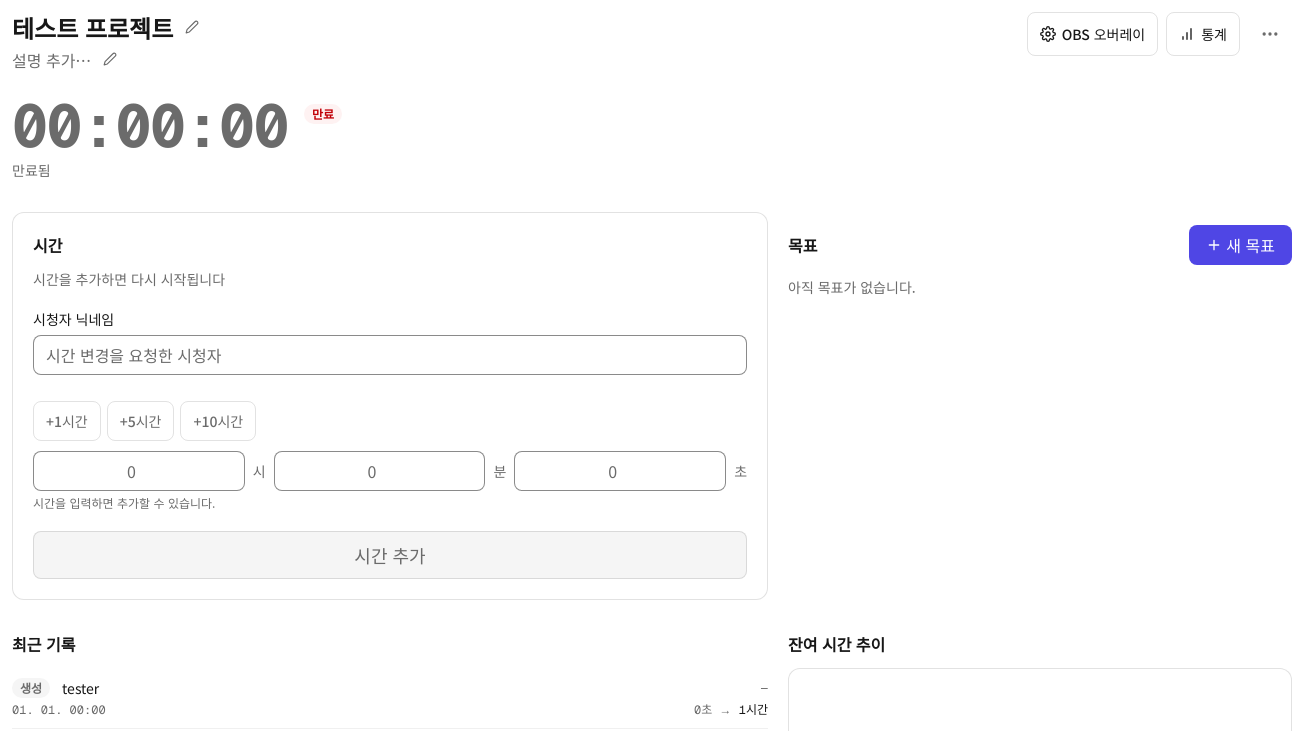
콘솔 조회 실패 표시 (W31) › 생성 기록뿐인 상태에서 시간 변경에 성공하면 이어지는 기록 갱신이 실패해도 '전체 기록'을 보인다
Expected: the heading "최근 기록" is shown, [12,632,75,656]
Expected: the text "tester" is shown, [62,678,99,698]
Type "시청자" into the field labelled "시청자 닉네임". click: (390, 355)
box: [33,335,747,375]
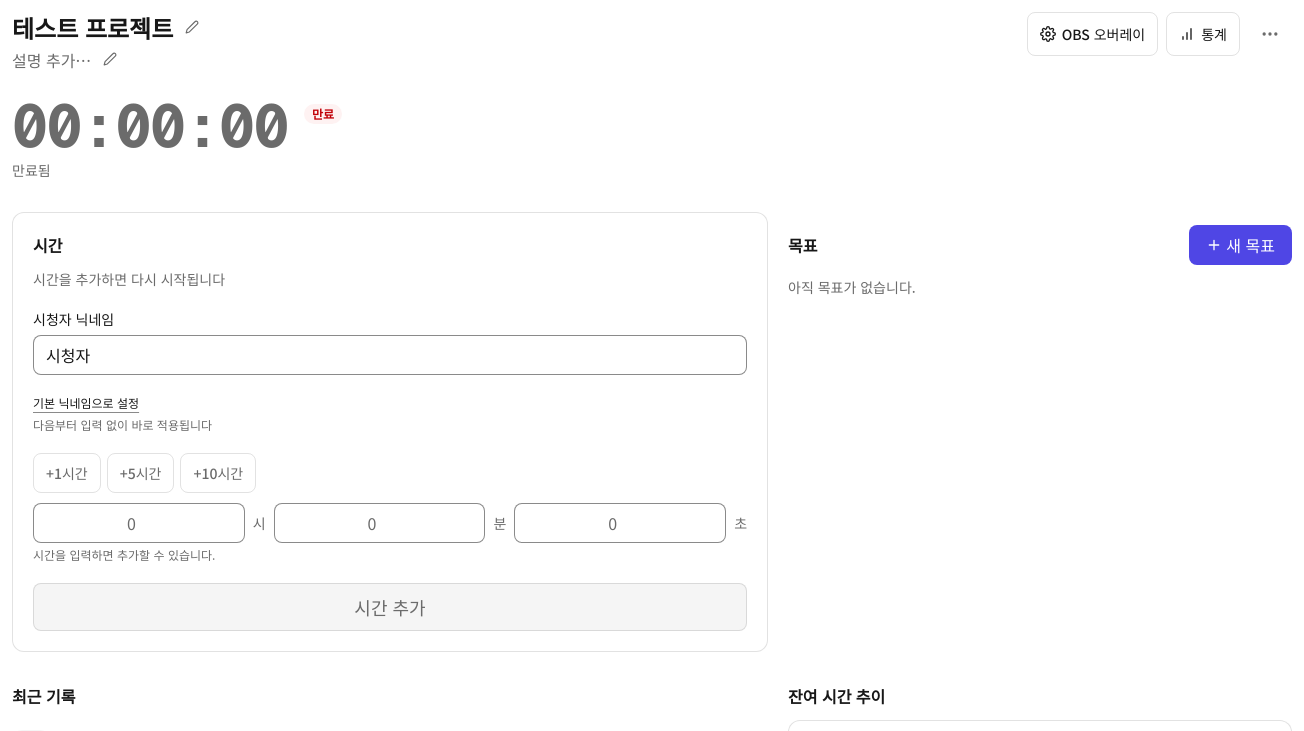
Press 1
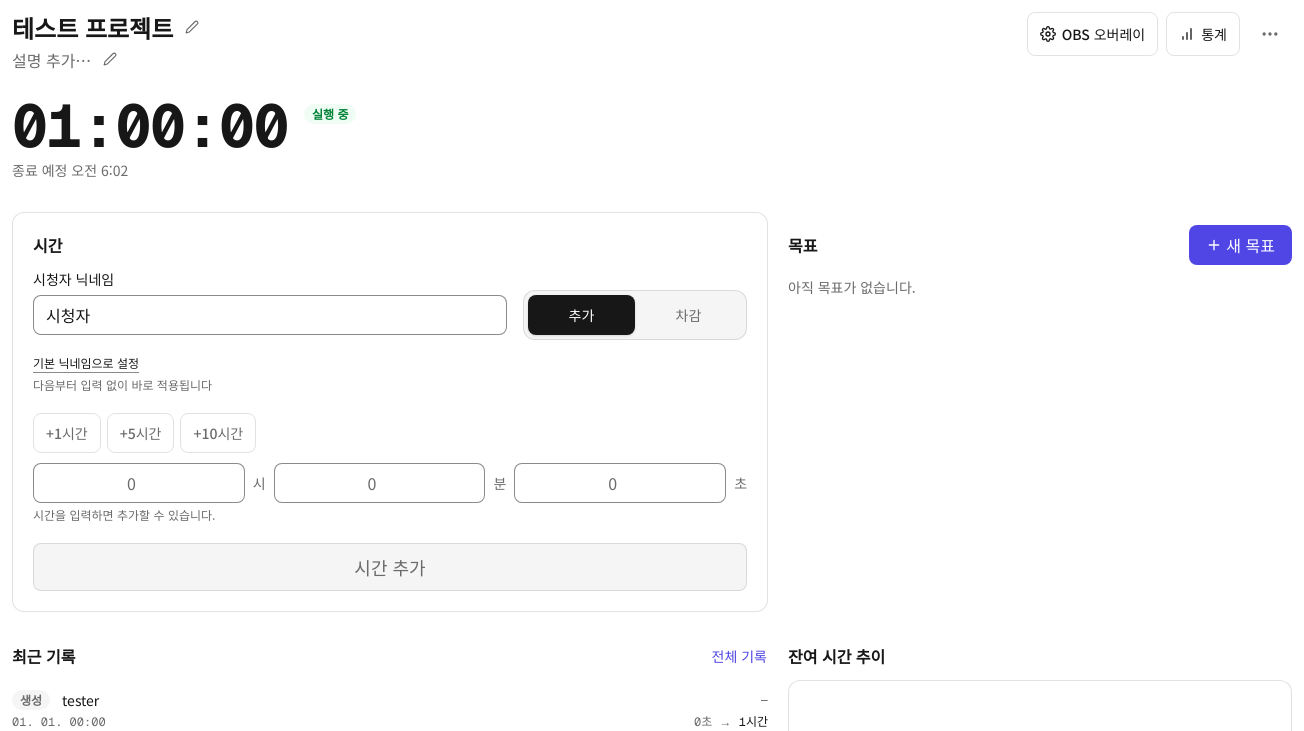
Now the button "전체 기록" is shown, box [702,645,776,667]
